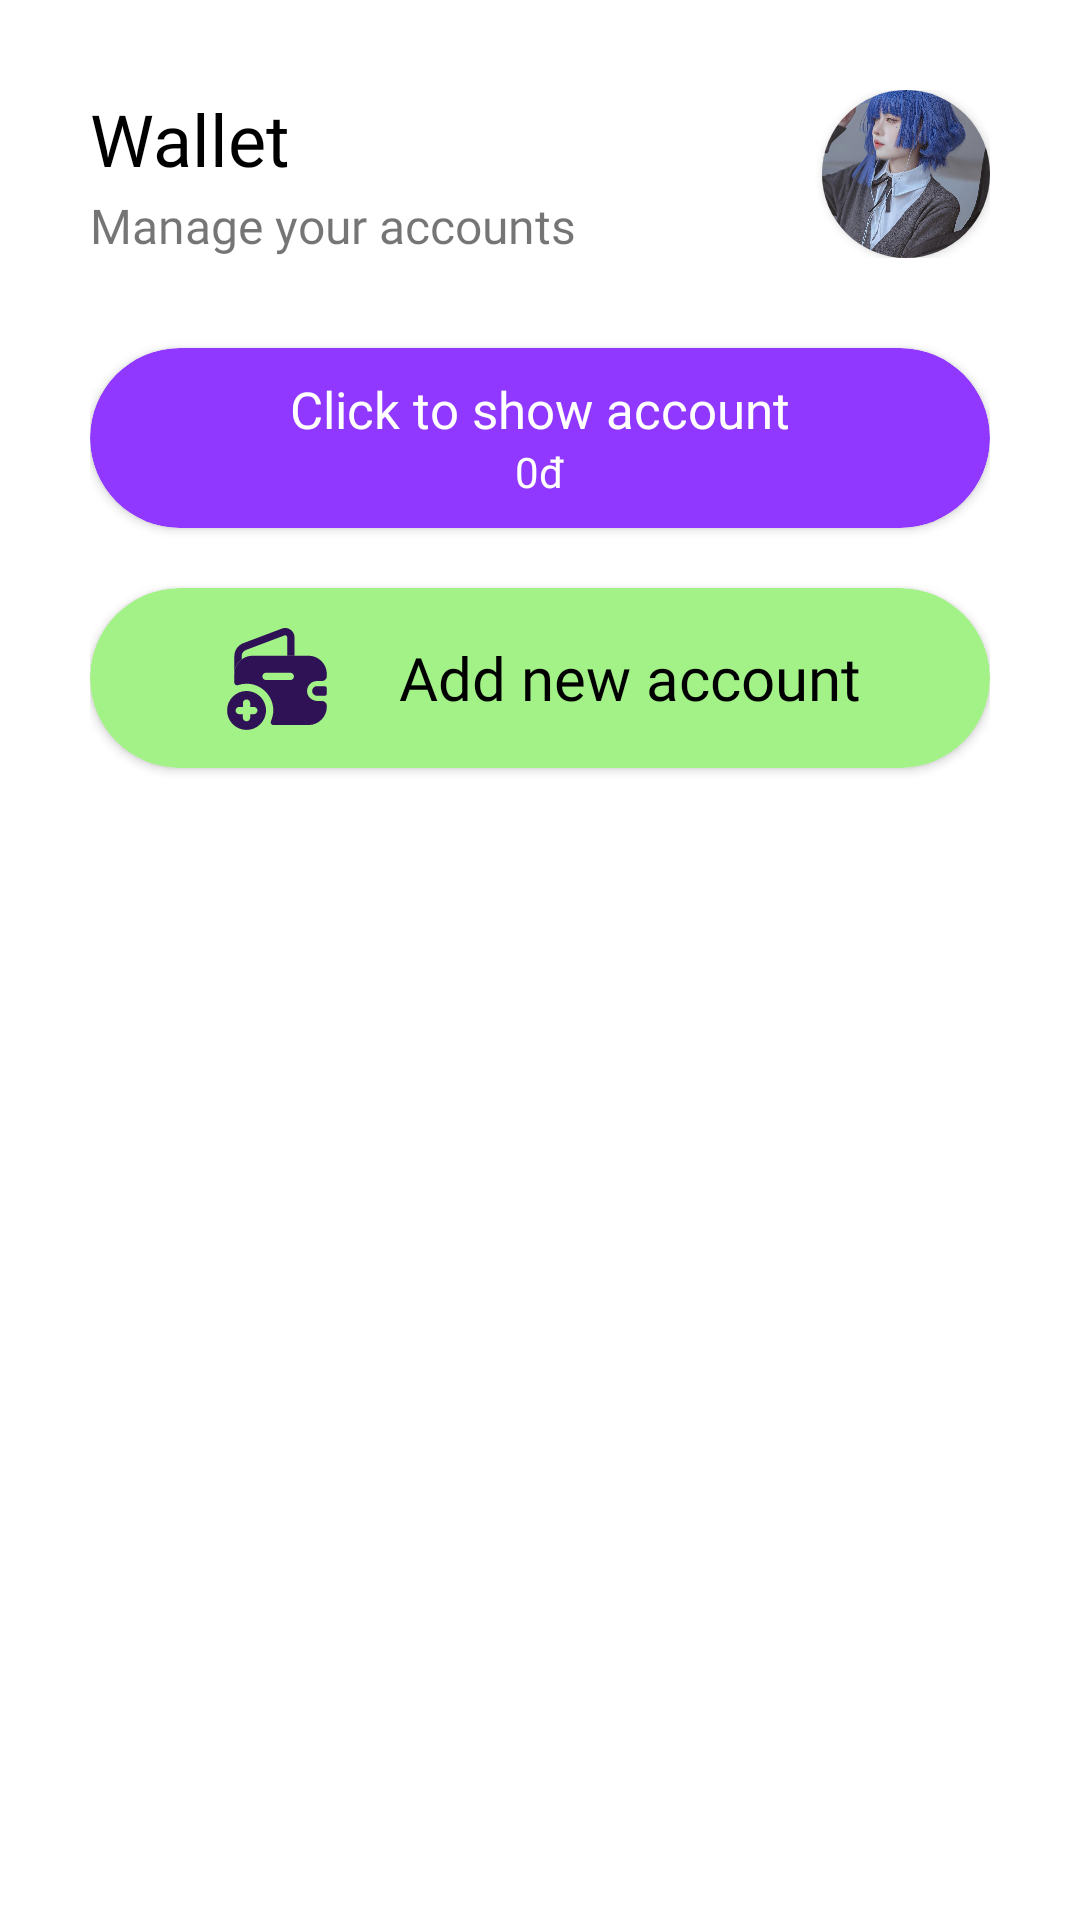

Named icons in this screenshot (1080×1920) and their centers, point (x, y):
empty wallet add: point (277, 679)
profilepic: point (906, 174)
